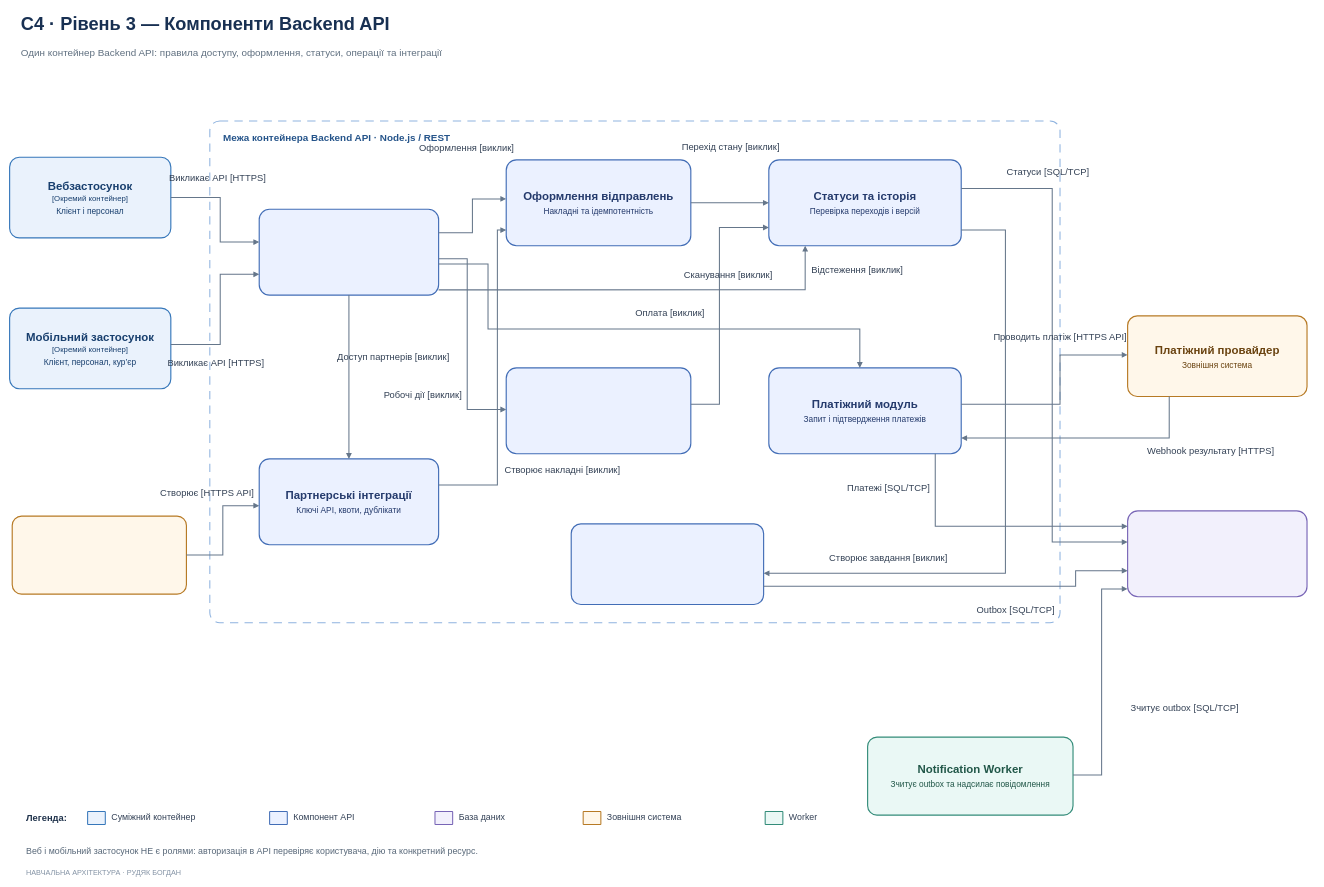
This 1324x887 diagram has some shape labels left out. The centre of each missing label's shape, as x and y in pixels:
API та RBAC Маршрутизація, роль, дія та ресурс: the point at 348,251
CRM / інтернет-магазин Зовнішній партнер: the point at 99,554
Outbox Транзакційні завдання сповіщень: the point at 667,564
PostgreSQL Суміжний контейнер: the point at 1217,553
Операції персоналу Приймання, видача та доставка: the point at 598,410
